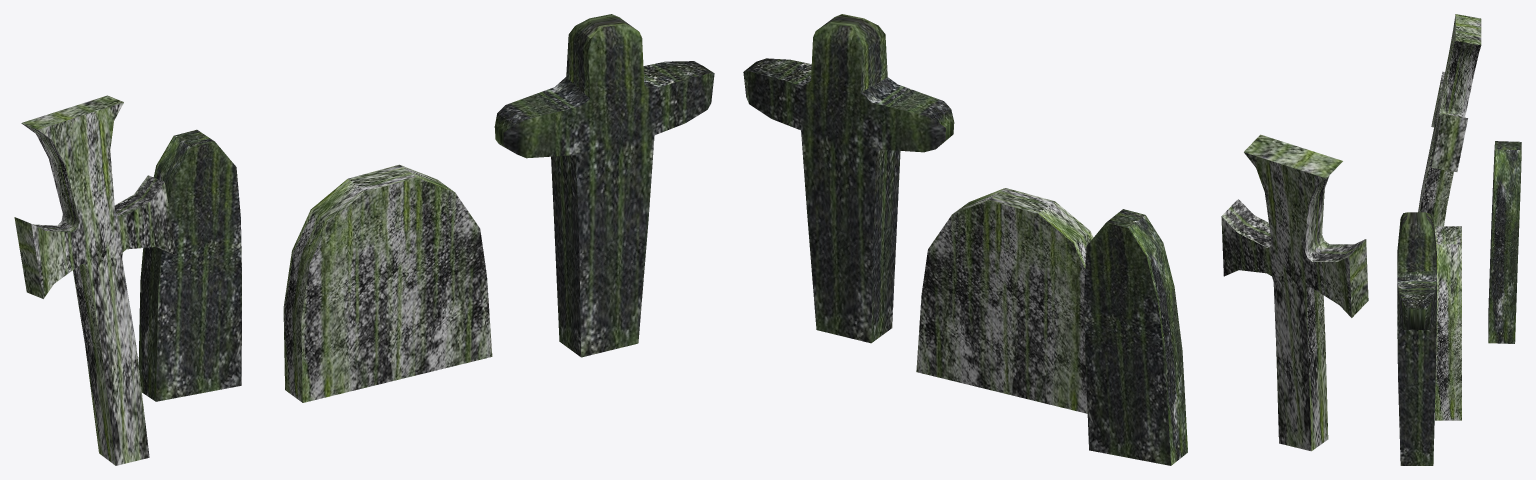
Rendered from pir_m_prp_cem_headstones_d.fbx.
3 renders of one model, left to right at view 1: azimuth 30°, elevation 25°; view 2: azimuth 150°, elevation 25°; view 3: azimuth 270°, elevation 25°, orthographic. The views are drawn at different scales.
Visible parts, largest first — view 1: Gravestone2, Gravestone1, Gravestone3, Gravestone18; view 2: Gravestone1, Gravestone2, Gravestone3, Gravestone18; view 3: Gravestone1, Gravestone3, Gravestone18, Gravestone2.
Part boxes in pixels (x1=…): Gravestone2: x1=283, y1=164, x2=492, y2=402; Gravestone1: x1=494, y1=14, x2=714, y2=357; Gravestone3: x1=14, y1=95, x2=176, y2=465; Gravestone18: x1=138, y1=129, x2=241, y2=401; Gravestone1: x1=743, y1=14, x2=954, y2=343; Gravestone2: x1=916, y1=188, x2=1093, y2=413; Gravestone3: x1=1221, y1=134, x2=1368, y2=451; Gravestone18: x1=1084, y1=209, x2=1187, y2=465; Gravestone1: x1=1397, y1=212, x2=1436, y2=465; Gravestone3: x1=1418, y1=14, x2=1481, y2=231; Gravestone18: x1=1488, y1=141, x2=1521, y2=343; Gravestone2: x1=1435, y1=226, x2=1461, y2=420.
Bounding box in the file's own units: 1317 × 637 × 285.
1 material, 1 textured.
